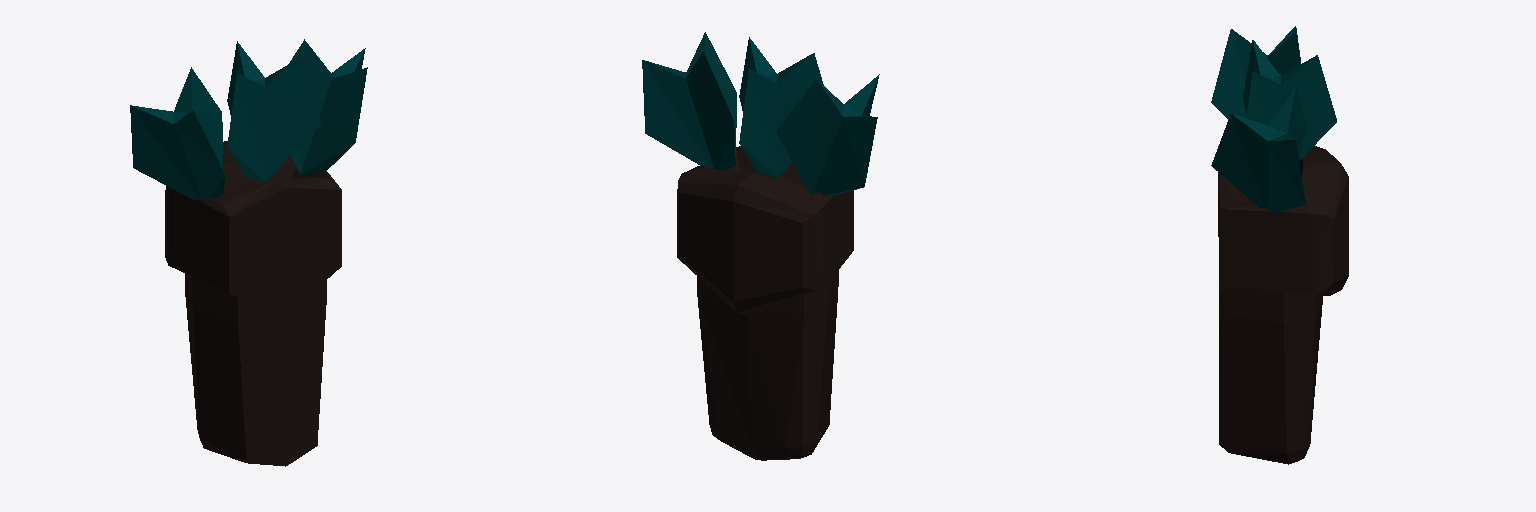
Rendered from quiver_green.obj.
3 views of the same model, side by side, from view 1: azimuth 30°, elevation 25°; view 2: azimuth 150°, elevation 25°; view 3: azimuth 270°, elevation 25° (orthographic).
Visible parts, largest first — view 1: quiver_green_Cube.7743; view 2: quiver_green_Cube.7743; view 3: quiver_green_Cube.7743.
Boxes of the visible parts, <box> form: quiver_green_Cube.7743: <box>130,39,367,466</box>; quiver_green_Cube.7743: <box>642,32,879,460</box>; quiver_green_Cube.7743: <box>1211,26,1348,464</box>.
Bounding box in the file's own units: 0.3728 × 0.6087 × 0.1886.